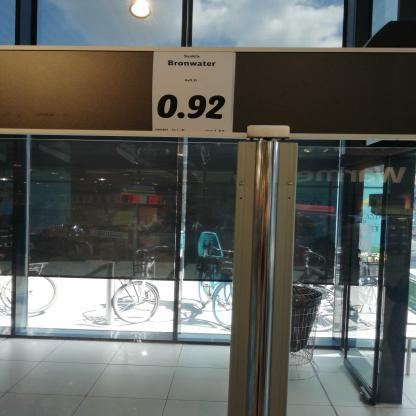prtg: (153, 52, 237, 134)
